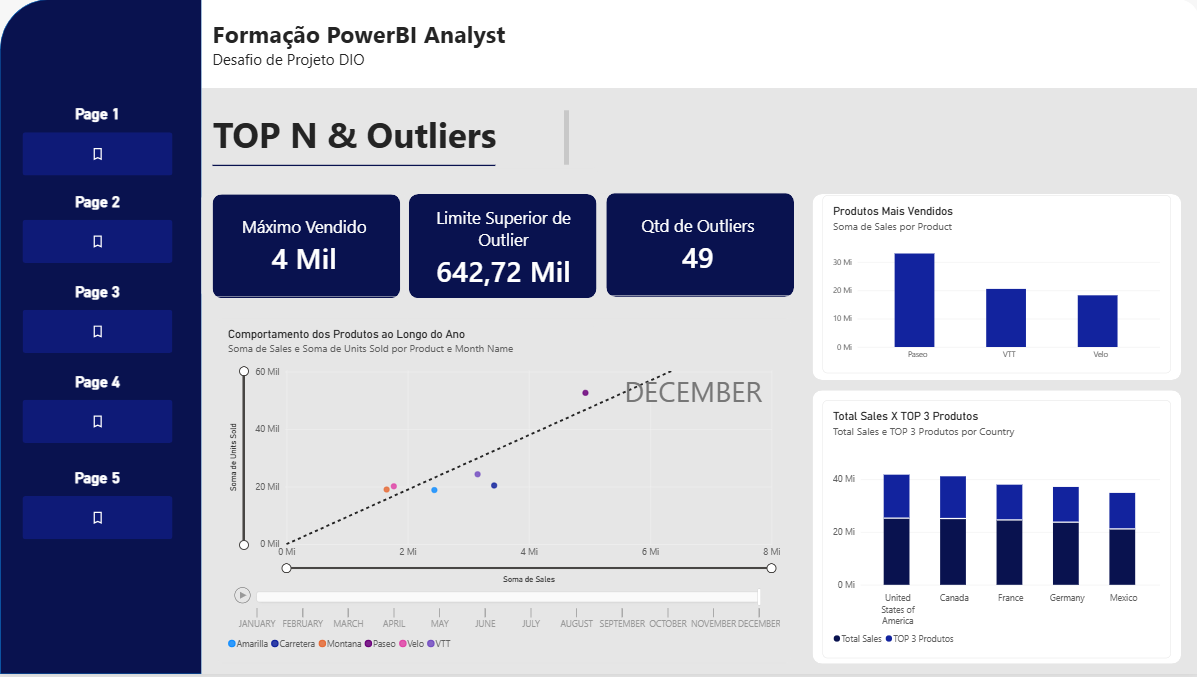

What the dashboard file says about the page in this screenshot:
{"tool":"powerbi","page":{"name":"Página 4","canvas":[1920,1080],"ordinal":3},"visuals":[{"type":"shape","box":[322.5,115,1597.5,965],"z":0},{"type":"shape","box":[322.5,0,1597.5,142.5],"z":1000},{"type":"shape","box":[0,0,322.5,1080],"z":2000},{"type":"shape","box":[970.6,310,300.5,166.7],"z":2000,"group":"g6"},{"type":"shape","box":[654.4,311,300.5,166.7],"z":2000,"group":"g7"},{"type":"group","id":"g1","title":"Grupo 2","box":[322.5,312.5,327.5,167.5],"z":2000,"group":"g5"},{"type":"shape","box":[340.6,312.5,300.5,166.7],"z":2000,"group":"g1"},{"type":"textbox","box":[340.2,29.2,574.5,86.8],"z":3000},{"type":"group","id":"g2","title":"Grupo 3","box":[35,169,240.5,694.8],"z":4000},{"type":"cardVisual","fields":{"Data":["financials.Limite Superior de Outlier"]},"box":[652.5,270,305,255],"z":5000,"group":"g7"},{"type":"cardVisual","fields":{"Data":["financials.Qtd de Outliers"]},"box":[952.5,310.9,327.5,165],"z":5000,"group":"g6"},{"type":"cardVisual","fields":{"Data":["financials.Máximo Vendido"]},"box":[322.5,313.4,327.5,165],"z":5000,"group":"g1"},{"type":"scatterChart","title":"Comportamento dos Produtos ao Longo do Ano","fields":{"Play":["financials.Month Name"],"Series":["financials.Product"],"X":["financials.Sales"],"Y":["Sum(financials.Units Sold)"]},"box":[347.5,510,917.5,552.5],"z":5000},{"type":"textbox","box":[340,177.5,570,90],"z":6000},{"type":"shape","box":[1300,312.5,590,297.5],"z":6000,"group":"g3"},{"type":"shape","box":[340,250,452.5,32.5],"z":7000},{"type":"shape","box":[1300,625,590,437.5],"z":7000,"group":"g4"},{"type":"group","id":"g3","title":"Grupo 1","box":[1300,312.5,590,297.5],"z":8000},{"type":"clusteredColumnChart","title":"Produtos Mais Vendidos","fields":{"Category":["financials.Product"],"Y":["Sum(financials.Sales)"]},"box":[1315,315,557.5,285],"z":9000,"group":"g3"},{"type":"group","id":"g4","title":"Grupo 4","box":[1300,625,590,437.5],"z":9000},{"type":"group","id":"g5","title":"Grupo 5","box":[322.5,270,957.5,255],"z":10000},{"type":"columnChart","title":"Total Sales X TOP 3 Produtos","fields":{"Category":["financials.Country"],"Y":["financials.Total Sales","financials.TOP 3 Produtos"]},"box":[1315,640,557.5,412.5],"z":10000,"group":"g4"},{"type":"group","id":"g6","title":"Grupo 2","box":[952.5,310,327.5,167.5],"z":11000,"group":"g5"},{"type":"group","id":"g7","title":"Grupo 2","box":[652.5,270,305,255],"z":12000,"group":"g5"},{"type":"actionButton","title":"Page 5","box":[35.5,751.3,240,112.5],"z":13250,"group":"g2"},{"type":"actionButton","title":"Page 4","box":[35.5,596.8,240,112.5],"z":13500,"group":"g2"},{"type":"actionButton","title":"Page 3","box":[35,452.5,240,112.5],"z":14000,"group":"g2"},{"type":"actionButton","title":"Page 2","box":[35.5,308.8,240,112.5],"z":15000,"group":"g2"},{"type":"actionButton","title":"Page 1","box":[35.5,169,240,112.5],"z":16000,"group":"g2"}]}

Visuals, with their boxes in screenshot pixels (x1, y1, x2, y2), scaled from the page's 1920x1080 canvas onto the 1197x677 screenshot:
shape: <region>201, 72, 1196, 676</region>
shape: <region>201, 0, 1196, 89</region>
shape: <region>0, 0, 201, 676</region>
shape: <region>605, 194, 792, 299</region>
shape: <region>408, 195, 595, 299</region>
"Grupo 2" group: <region>201, 196, 405, 301</region>
shape: <region>212, 196, 400, 300</region>
textbox: <region>212, 18, 570, 73</region>
"Grupo 3" group: <region>22, 106, 172, 541</region>
cardVisual - financials.Limite Superior de Outlier: <region>407, 169, 597, 329</region>
cardVisual - financials.Qtd de Outliers: <region>594, 195, 798, 298</region>
cardVisual - financials.Máximo Vendido: <region>201, 196, 405, 300</region>
"Comportamento dos Produtos ao Longo do Ano" scatterChart: <region>217, 320, 789, 666</region>
textbox: <region>212, 111, 567, 168</region>
shape: <region>810, 196, 1178, 382</region>
shape: <region>212, 157, 494, 177</region>
shape: <region>810, 392, 1178, 666</region>
"Grupo 1" group: <region>810, 196, 1178, 382</region>
"Produtos Mais Vendidos" clusteredColumnChart: <region>820, 197, 1167, 376</region>
"Grupo 4" group: <region>810, 392, 1178, 666</region>
"Grupo 5" group: <region>201, 169, 798, 329</region>
"Total Sales X TOP 3 Produtos" columnChart: <region>820, 401, 1167, 660</region>
"Grupo 2" group: <region>594, 194, 798, 299</region>
"Grupo 2" group: <region>407, 169, 597, 329</region>
"Page 5" actionButton: <region>22, 471, 172, 541</region>
"Page 4" actionButton: <region>22, 374, 172, 445</region>
"Page 3" actionButton: <region>22, 284, 171, 354</region>
"Page 2" actionButton: <region>22, 194, 172, 264</region>
"Page 1" actionButton: <region>22, 106, 172, 176</region>
